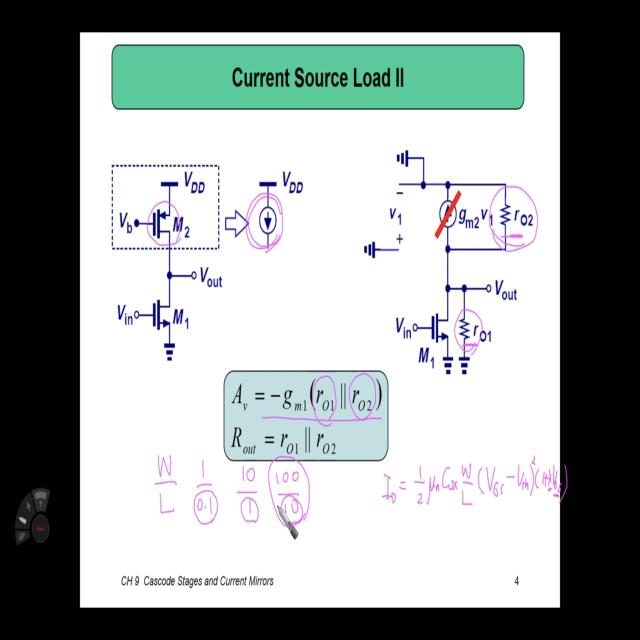panseo: (154, 452, 312, 540), (379, 455, 576, 517)
